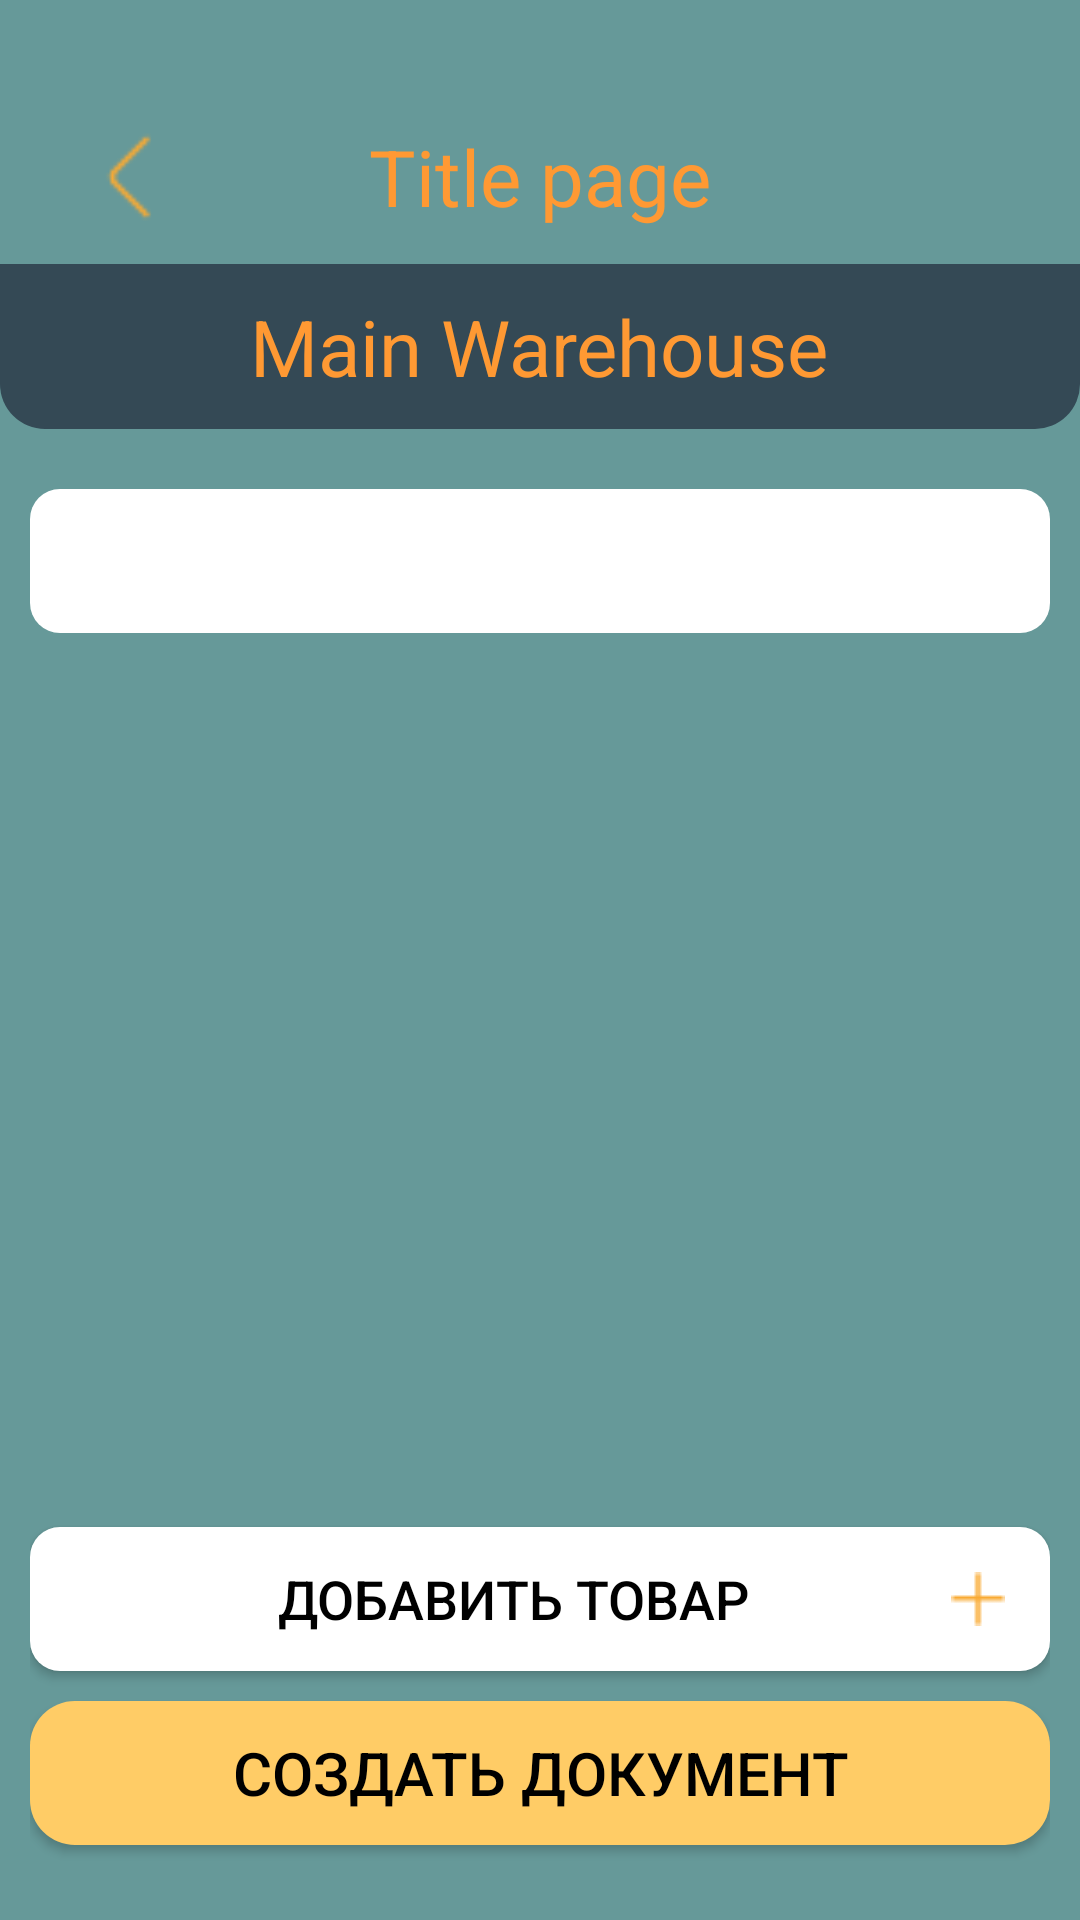

Named icons in this screenshot (1080px×1920px) and their centers, (x,y):
return: (129,177)
